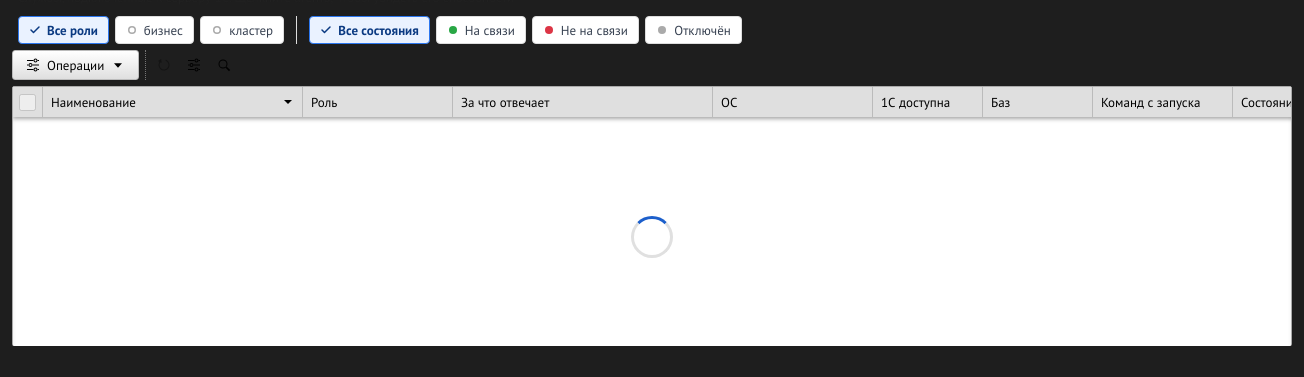
Test: вкладка «Агенты 1С» › в командной панели одна кнопка «Операции» вместо шести; пункты с подсказками при наведении
The width and height of the screenshot is (1304, 377).
Expected: the button "Завести агента" is not shown
Expected: the button "Подключить по коду" is not shown
Click the button "Операции" at (76, 65), box [12, 50, 139, 80]
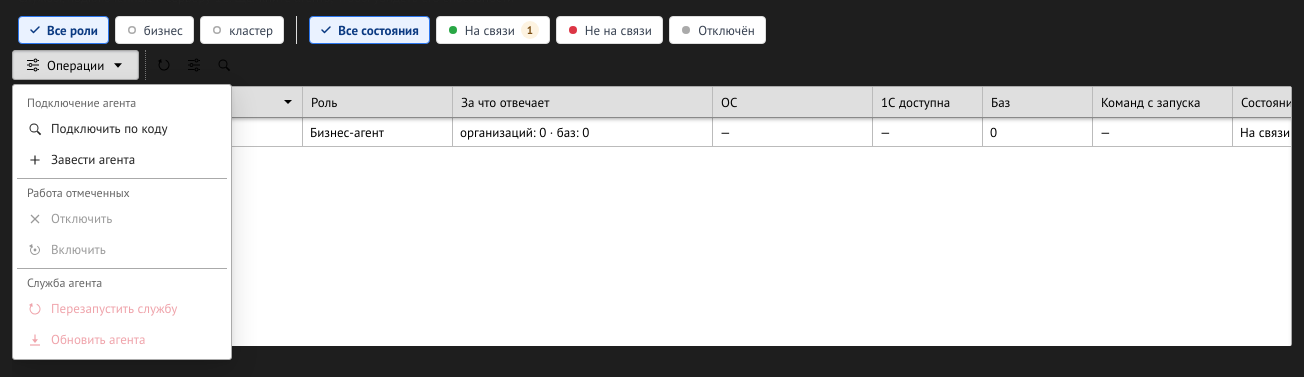
Expected: the number of menu items is 6, [17, 113, 227, 144]; [17, 144, 227, 175]; [17, 203, 227, 234]; [17, 234, 227, 265]; [17, 293, 227, 324]; [17, 324, 227, 355]
Expected: the menu item "Подключить по коду" is shown, [17, 113, 227, 144]
